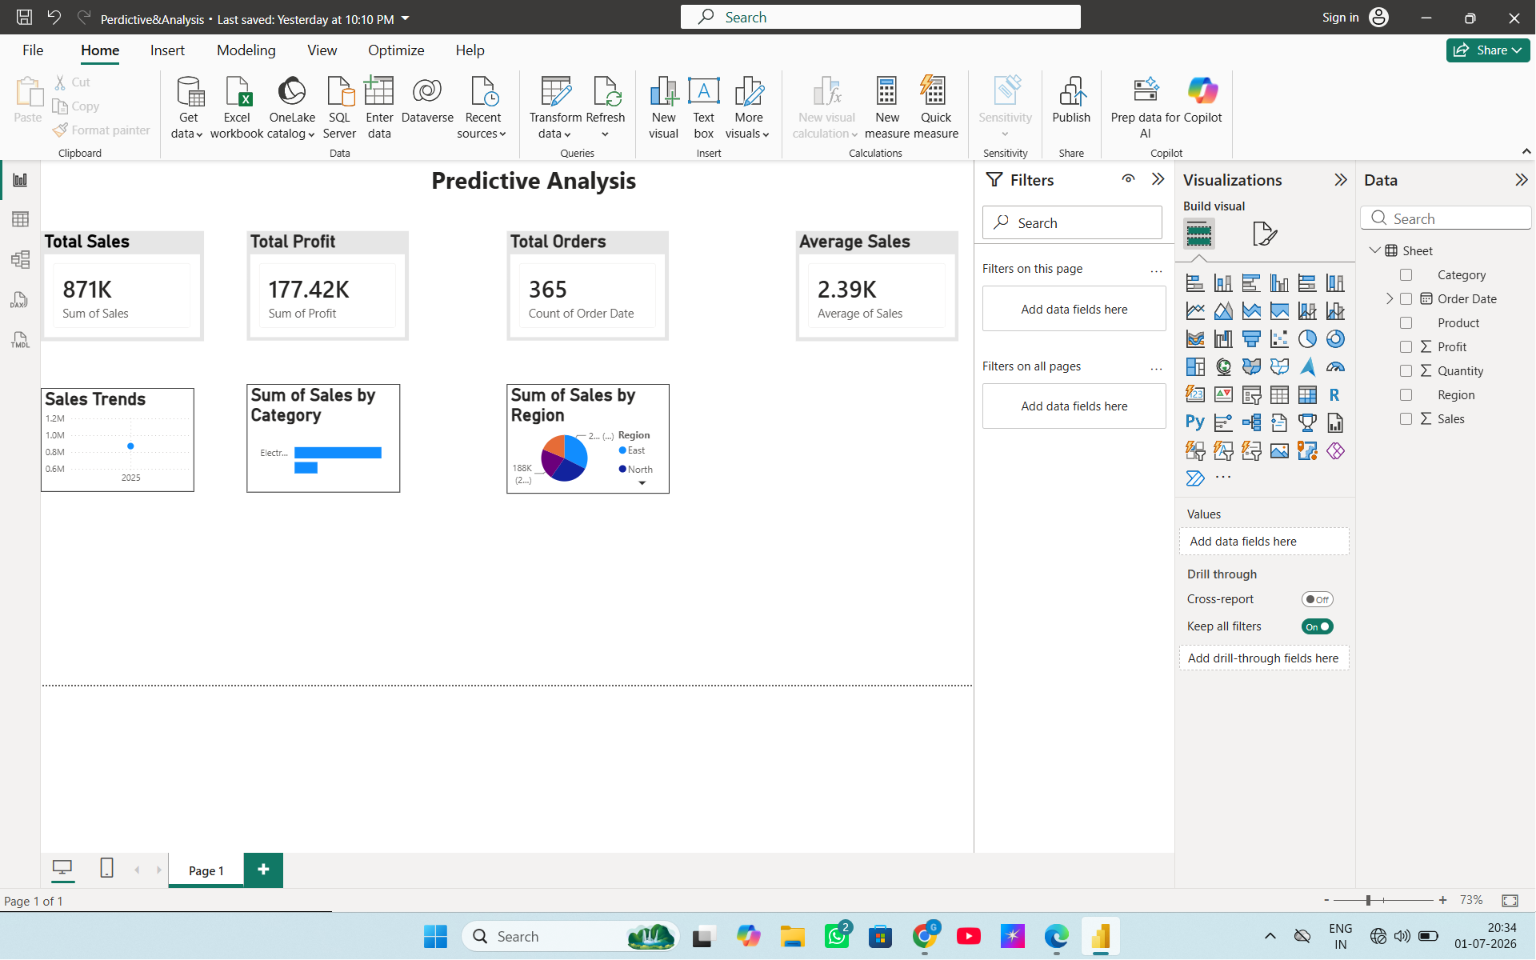

The dashboard page shown, as its layout file describes it:
{"tool":"powerbi","page":{"name":"Page 1","canvas":[1280,720],"ordinal":0},"visuals":[{"type":"cardVisual","title":"Total Sales","fields":{"Data":["Sum(Sheet.Sales)"]},"box":[0,97.4,223.7,150.9],"z":0},{"type":"textbox","box":[336.1,0,680.4,82.5],"z":1000},{"type":"cardVisual","title":"Total Profit","fields":{"Data":["Sum(Sheet.Profit)"]},"box":[282.5,96.9,222.7,150.5],"z":2000},{"type":"cardVisual","title":"Total Orders","fields":{"Data":["Count(Sheet.Order Date)"]},"box":[639.2,96.9,222.7,150.5],"z":2001},{"type":"cardVisual","title":"Average Sales","fields":{"Data":["Avg(Sheet.Sales)"]},"box":[1036.5,97,223,151],"z":2002},{"type":"lineChart","title":"Sales Trends","fields":{"Category":["Sheet.Order Date.Variation.Date Hierarchy.Year","Sheet.Order Date.Variation.Date Hierarchy.Quarter","Sheet.Order Date.Variation.Date Hierarchy.Month","Sheet.Order Date.Variation.Date Hierarchy.Day"],"Y":["Sum(Sheet.Sales)"]},"box":[0,313.4,210.3,142.3],"z":2003},{"type":"barChart","fields":{"Category":["Sheet.Category"],"Y":["Sum(Sheet.Sales)"]},"box":[282.5,307.2,210.3,148.5],"z":2004},{"type":"pieChart","fields":{"Category":["Sheet.Region"],"Y":["Sum(Sheet.Sales)"]},"box":[639,307,223,150],"z":2005}]}

Visuals, with their boxes on the page's 1280x720 design canvas (x1, y1, x2, y2). These are canvas units, not pixel positions in the 1536x960 screenshot, which may show the page scaled, cropped or inside an application window:
"Total Sales" cardVisual: box=[0, 97, 224, 248]
textbox: box=[336, 0, 1016, 82]
"Total Profit" cardVisual: box=[282, 97, 505, 247]
"Total Orders" cardVisual: box=[639, 97, 862, 247]
"Average Sales" cardVisual: box=[1036, 97, 1260, 248]
"Sales Trends" lineChart: box=[0, 313, 210, 456]
barChart - Sheet.Category x Sum(Sheet.Sales): box=[282, 307, 493, 456]
pieChart - Sheet.Region x Sum(Sheet.Sales): box=[639, 307, 862, 457]
